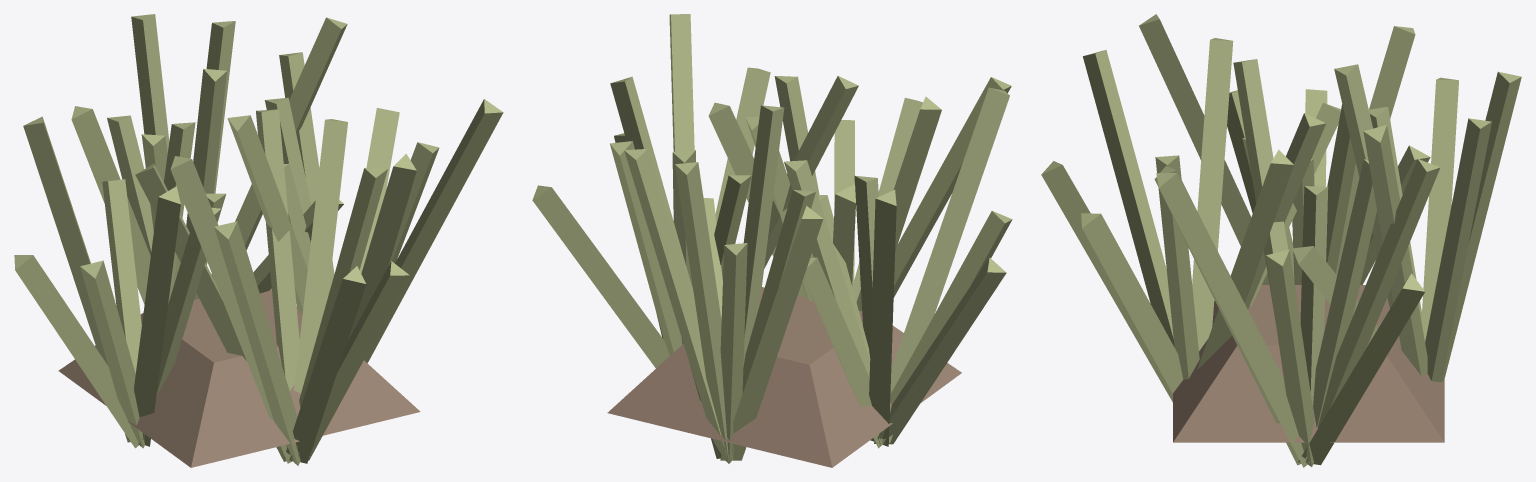
Rendered from andean-terraces-and-stone-village-tussock-grass-clump-49aaee8d__38232.glb.
3 views of the same model, side by side, from view 1: azimuth 30°, elevation 25°; view 2: azimuth 150°, elevation 25°; view 3: azimuth 270°, elevation 25° (orthographic). The views are drawn at different scales.
Visible parts, largest first — view 1: tussock-grass-clump-grass, tussock-grass-clump-earth; view 2: tussock-grass-clump-grass, tussock-grass-clump-earth; view 3: tussock-grass-clump-grass, tussock-grass-clump-earth.
Boxes of the visible parts, <box> form: tussock-grass-clump-grass: <box>14,14,503,465</box>; tussock-grass-clump-earth: <box>58,288,420,467</box>; tussock-grass-clump-grass: <box>532,14,1012,463</box>; tussock-grass-clump-earth: <box>607,287,961,467</box>; tussock-grass-clump-grass: <box>1041,14,1521,467</box>; tussock-grass-clump-earth: <box>1173,285,1444,442</box>.
Size of the model in its own units: 0.7888 by 0.6023 by 0.7436.
